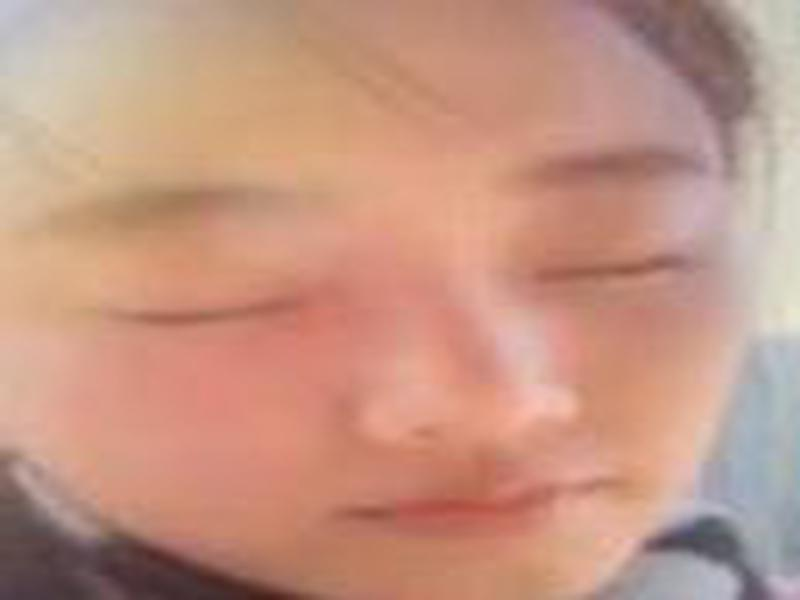without_mask: (16, 8, 759, 600)
